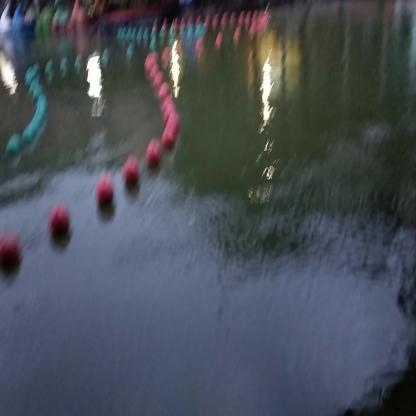green_buoy: (7, 137, 21, 158), (23, 130, 34, 148), (74, 58, 81, 71), (46, 63, 52, 75), (61, 58, 66, 71)
red_buoy: (0, 234, 20, 264), (50, 210, 69, 236), (96, 182, 112, 206), (146, 144, 160, 165), (126, 162, 138, 183)
